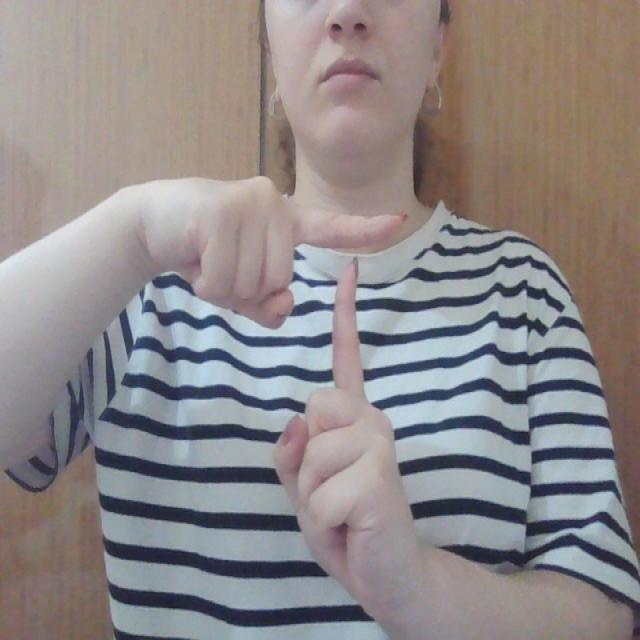Tesekkurler: (294, 186, 424, 434)
